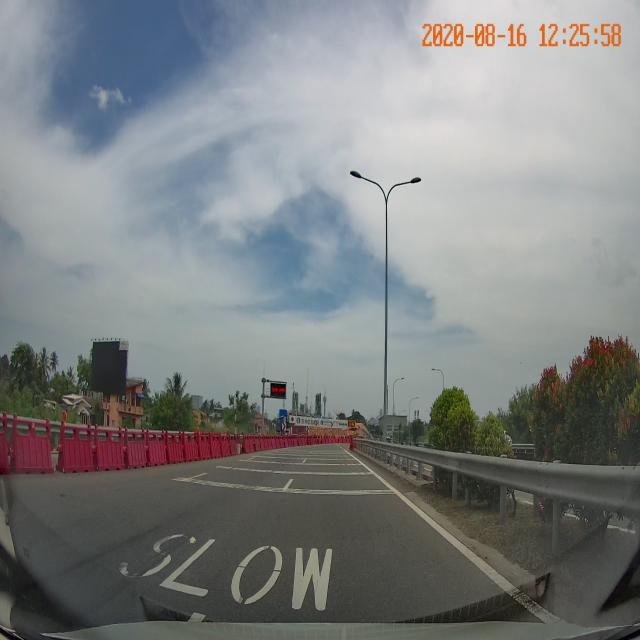SLOW: (111, 524, 340, 624)
